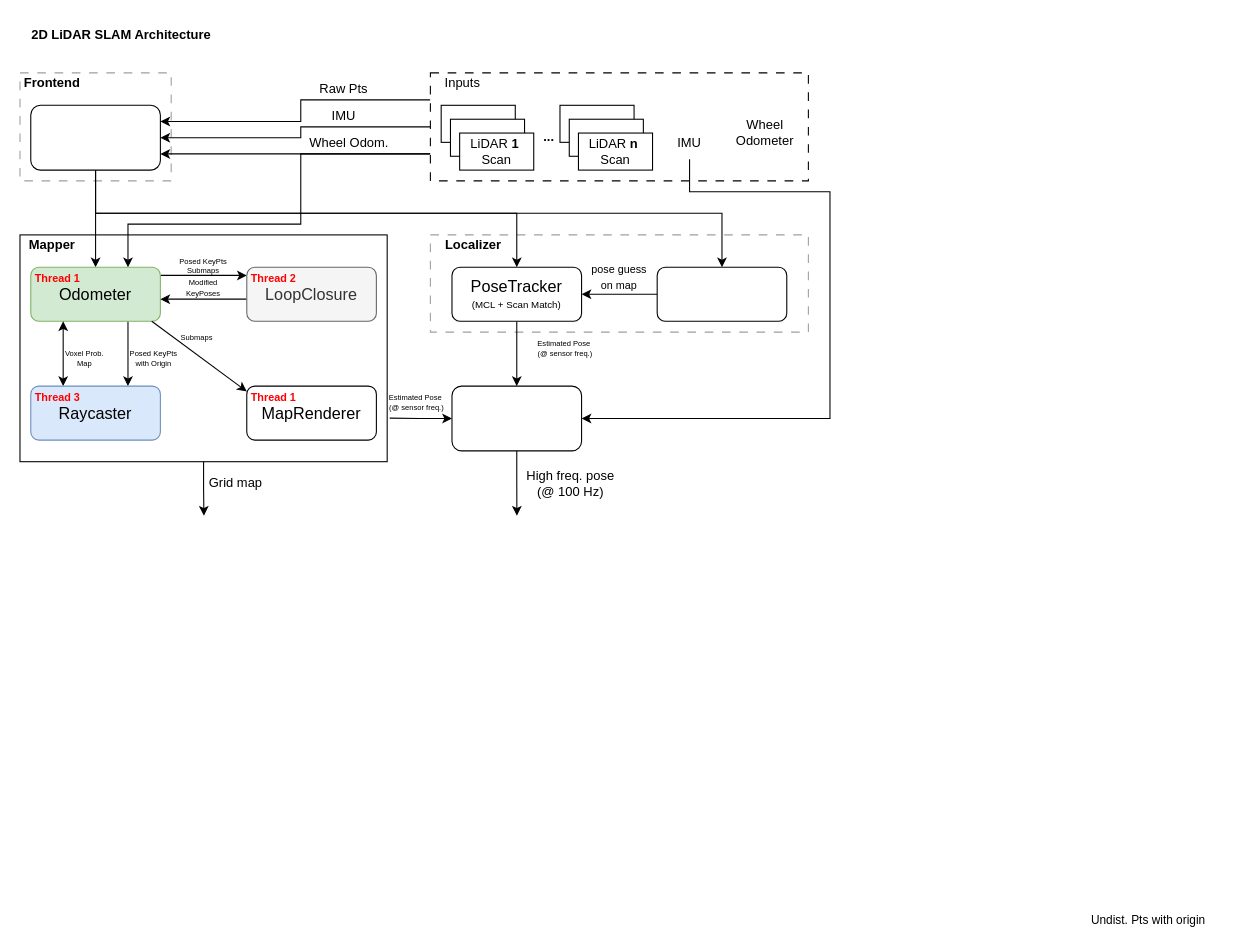
Image size: 1238x946. Some labels were removed from this diagram. The centre of each missing label's shape, as x and y in pixels:
"Motion Compensator" belongs at point 95,137.
"Relocalizer (B&B search)" belongs at point 721,293.
"TfPublisher" belongs at point 516,418.
